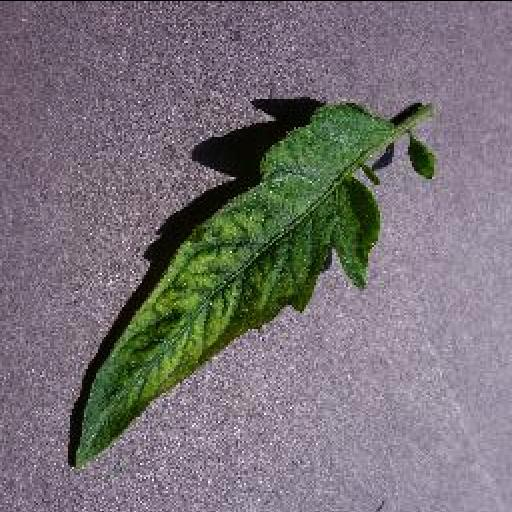Mosaic Virus: (70, 102, 396, 472)
